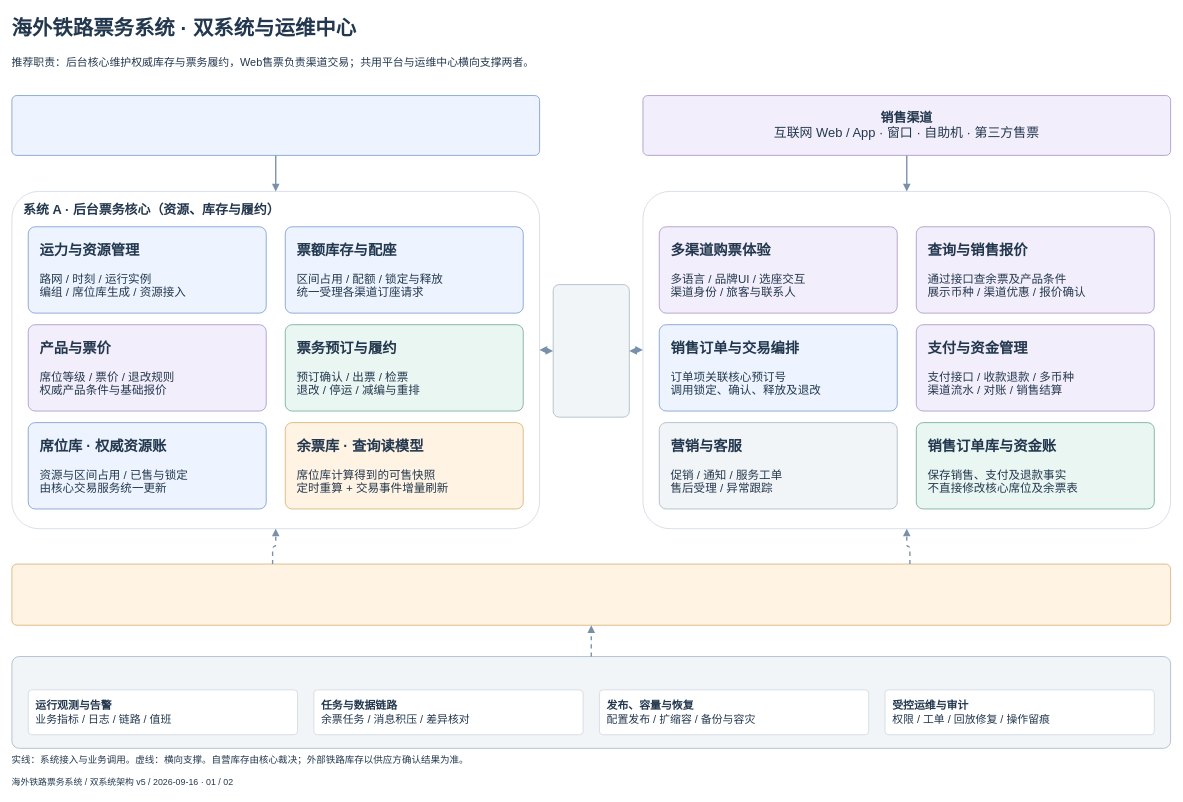
The diagram is 1183 pixels wide and 802 high, and some of its shapes have lost their labels. The shapes that lost their labels are listed below. From the top down, each one's box as (x1, y1, x2, y2) in pixels, then its label:
(11, 95, 540, 155): 运力与票务资源 自营运行/编组 · 外部铁路接口 · 票证与检票设备
(552, 284, 629, 417): 票务接口 余票/报价 锁定/确认 释放/退改 状态查询
(642, 191, 1171, 529): 系统 B · Web售票系统（体验、交易与资金）
(11, 563, 1171, 625): 共用平台能力 市场/运营商/产品配置 · 席位与票价策略 · 支付与币种适配 · 语言/品牌UI · GDPR与数据治理 · 组织权限
(11, 656, 1171, 748): 运维中心 · 横向管理两系统与数据链路，不参与逐笔交易决策
